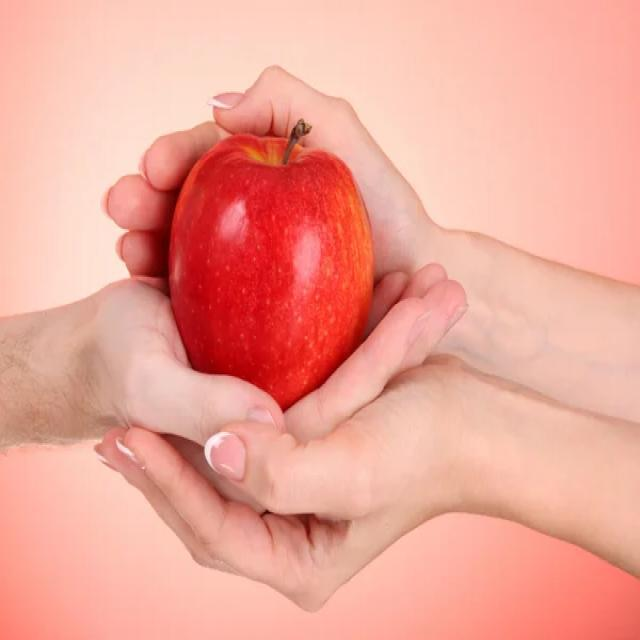Fresh Apple: (173, 142, 350, 395)
